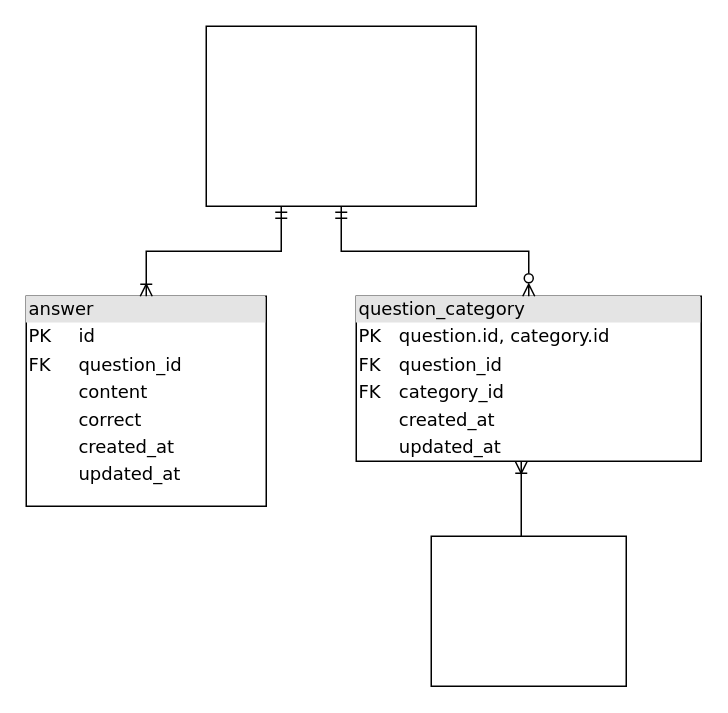
The diagram is 728 pixels wide and 713 high, and some of its shapes have lost their labels. The centre of each missing label's shape, as x and y in pixels:
category PK id name created_at updated_at: (x=528, y=610)
question PK id content is_multiple_choice created_at updated_at: (x=340, y=115)
